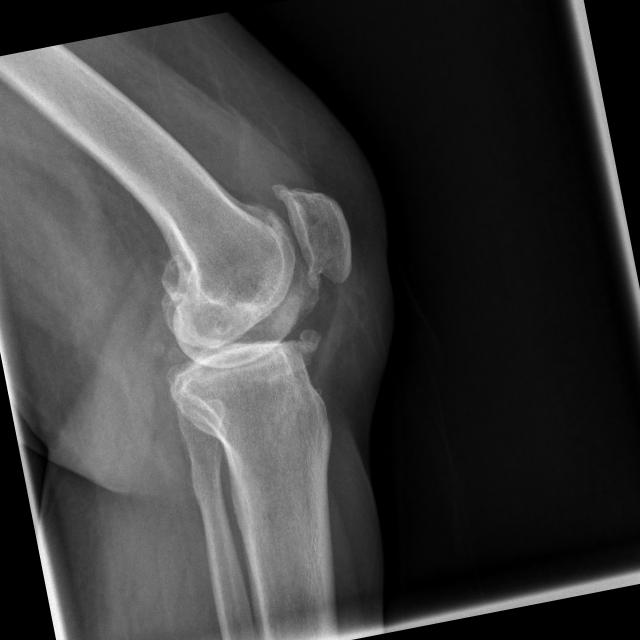Knee: (130, 173, 380, 425)
